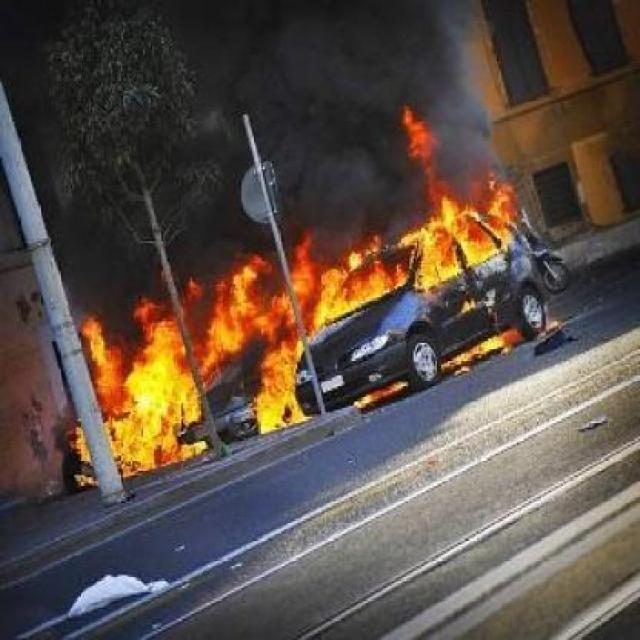Fire: (117, 192, 528, 444)
Smoke: (227, 34, 595, 181)
